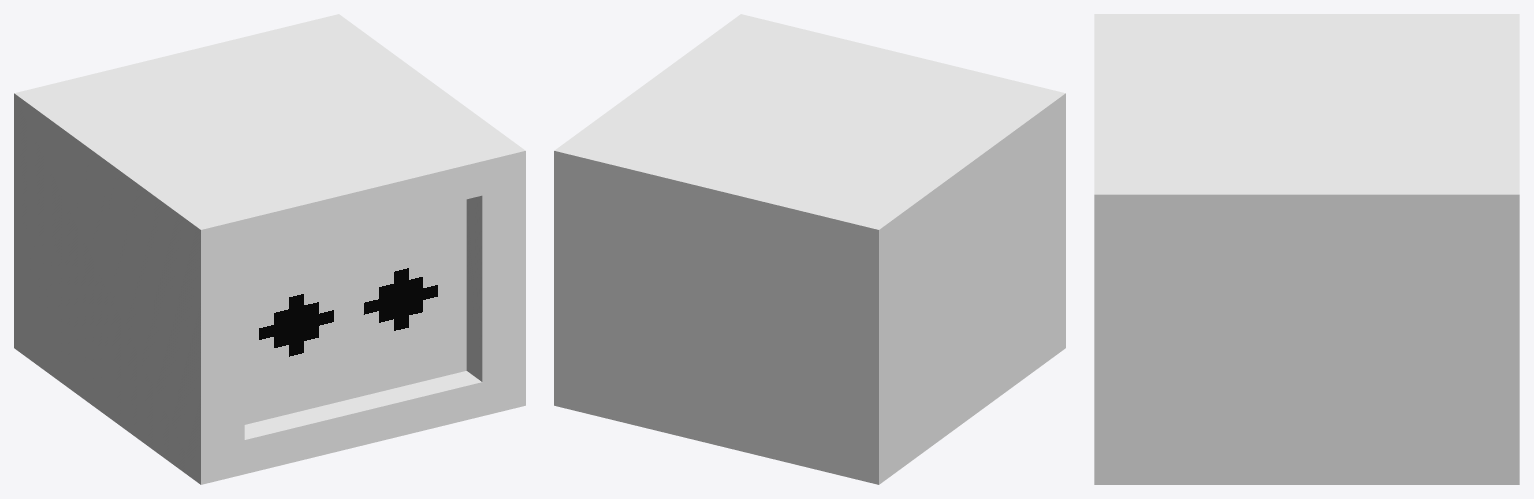
The model's file is output_plug.glb.
The picture shows the model from 3 angles, left to right: view 1: azimuth 30°, elevation 25°; view 2: azimuth 150°, elevation 25°; view 3: azimuth 270°, elevation 25°; orthographic projection. The views are drawn at different scales.
Visible parts, largest first — view 1: Female_plug; view 2: Female_plug; view 3: Female_plug.
Boxes of the visible parts, <box> form: Female_plug: <box>14,14,525,484</box>; Female_plug: <box>554,14,1065,484</box>; Female_plug: <box>1094,14,1519,484</box>.
Size of the model in its own units: 0.1587 by 0.119 by 0.1581.
1 material, 1 textured.
